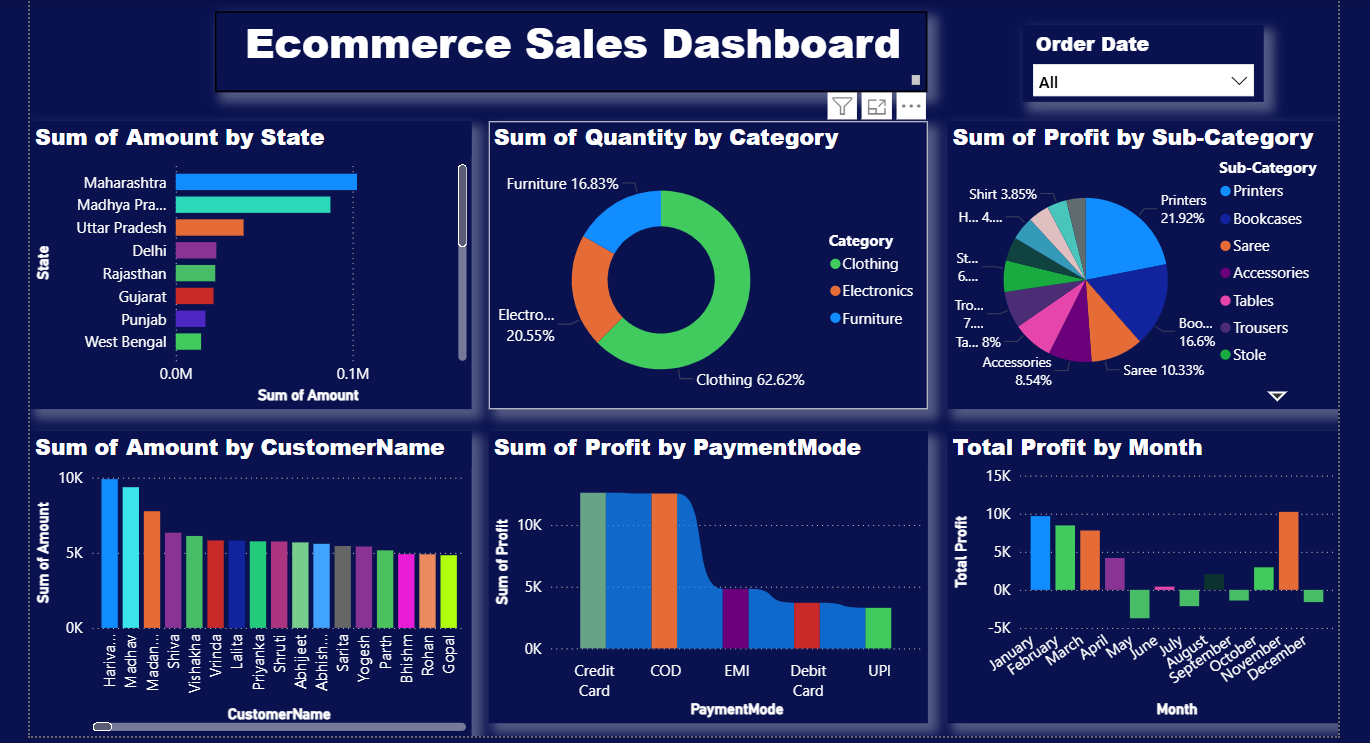

What the dashboard file says about the page in this screenshot:
{"tool":"powerbi","page":{"name":"Ecommerce_Sales_Dashboards","canvas":[1280,720],"ordinal":0},"visuals":[{"type":"barChart","fields":{"Y":["Details.Amount"],"Category":["Orders.State"]},"box":[0,118,432.2,281.3],"z":0},{"type":"columnChart","fields":{"Y":["Details.Amount"],"Category":["Orders.CustomerName"]},"box":[0,421.9,431.7,298.4],"z":1000},{"type":"donutChart","fields":{"Category":["Details.Category"],"Y":["Details.Quantity"]},"box":[448.7,118,429.5,281.3],"z":2000},{"type":"ribbonChart","fields":{"Category":["Details.PaymentMode"],"Y":["Details.Profit"]},"box":[448.7,421.3,429.5,285.4],"z":3000},{"type":"pieChart","fields":{"Category":["Details.Sub-Category"],"Y":["Details.Profit"]},"box":[897.4,118,382.8,281.3],"z":4000},{"type":"columnChart","fields":{"Category":["Orders.Order Date.Variation.Date Hierarchy.Year","Orders.Order Date.Variation.Date Hierarchy.Quarter","Orders.Order Date.Variation.Date Hierarchy.Month","Orders.Order Date.Variation.Date Hierarchy.Day"],"Y":["Details.Total Profit"]},"box":[897.4,421.3,382.8,285.4],"z":5000},{"type":"textbox","title":"Ecommerce Sales Dashboard","box":[181.1,11,697.1,79.6],"z":6000},{"type":"slicer","fields":{"Values":["Orders.Order Date.Variation.Date Hierarchy.Year","Orders.Order Date.Variation.Date Hierarchy.Quarter","Orders.Order Date.Variation.Date Hierarchy.Month","Orders.Order Date.Variation.Date Hierarchy.Day"]},"box":[971.5,24.7,236,75.5],"z":7000}]}

Visuals, with their boxes on the page's 1280x720 design canvas (x1, y1, x2, y2). These are canvas units, not pixel positions in the 1370x743 screenshot, which may show the page scaled, cropped or inside an application window:
barChart - Details.Amount x Orders.State: crop(0, 118, 432, 399)
columnChart - Details.Amount x Orders.CustomerName: crop(0, 422, 432, 720)
donutChart - Details.Category x Details.Quantity: crop(449, 118, 878, 399)
ribbonChart - Details.PaymentMode x Details.Profit: crop(449, 421, 878, 707)
pieChart - Details.Sub-Category x Details.Profit: crop(897, 118, 1280, 399)
columnChart - Orders.Order Date.Variation.Date Hierarchy.Year x Orders.Order Date.Variation.Date Hierarchy.Quarter: crop(897, 421, 1280, 707)
"Ecommerce Sales Dashboard" textbox: crop(181, 11, 878, 91)
slicer - Orders.Order Date.Variation.Date Hierarchy.Year x Orders.Order Date.Variation.Date Hierarchy.Quarter: crop(972, 25, 1208, 100)
